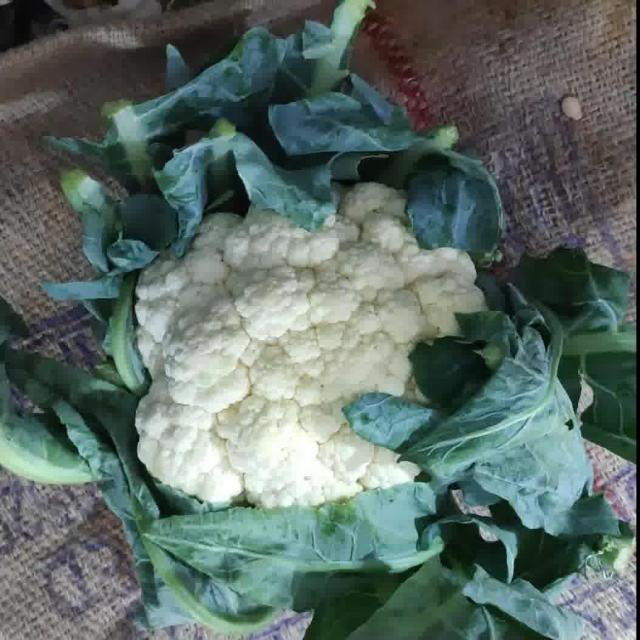Cauliflower: (137, 183, 486, 508)
